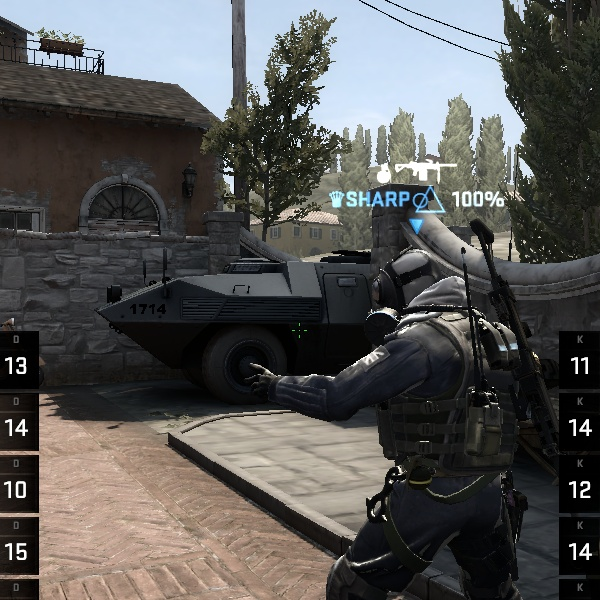ct_body: (294, 238, 573, 584)
